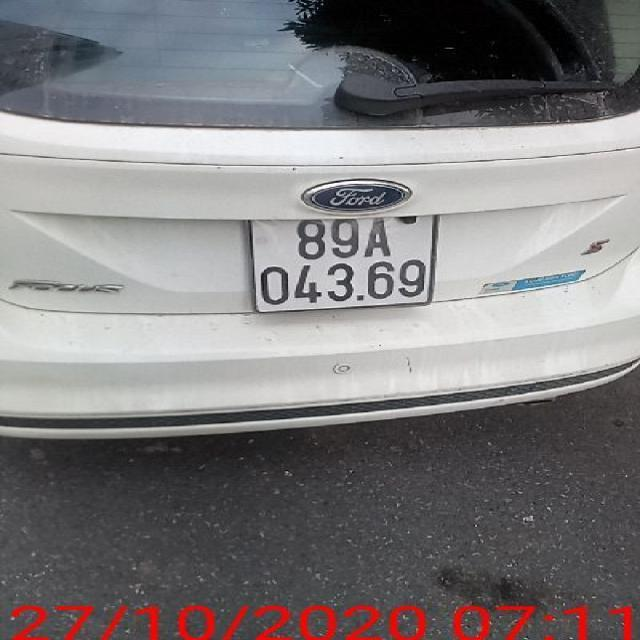bien_so_oto: (243, 216, 440, 316)
